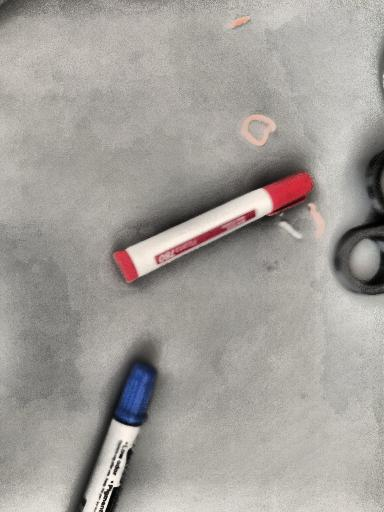marcador azul: (78, 363, 156, 512)
marcador rojo: (115, 172, 313, 282)
